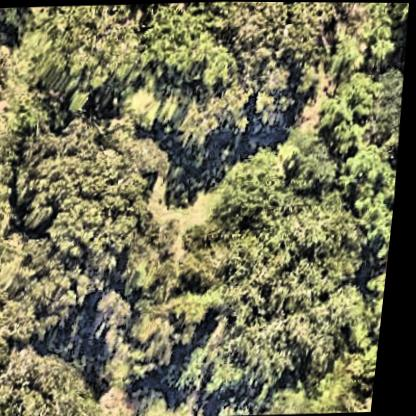tree-top: (180, 150, 374, 402), (7, 112, 168, 253), (0, 236, 107, 357), (19, 3, 150, 98), (239, 1, 346, 95), (140, 2, 240, 86), (324, 56, 409, 146), (174, 83, 259, 160), (0, 349, 95, 416), (352, 139, 404, 246), (351, 2, 411, 71), (351, 297, 390, 394), (92, 286, 144, 337)
